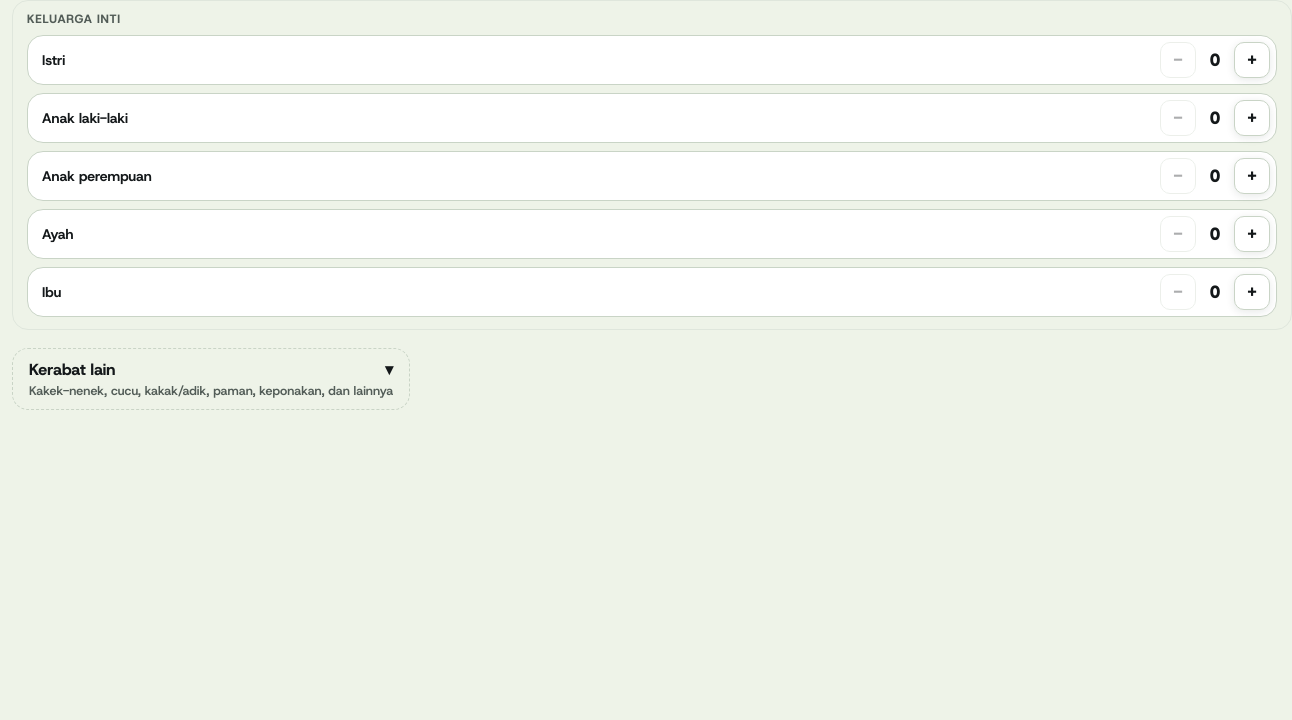
Scenario: kerabat lain selalu terbuka bila sudah ada isinya
This screenshot has width=1292, height=720.
Click the button "Kerabat lain" at (211,379), box [12,348,410,410]
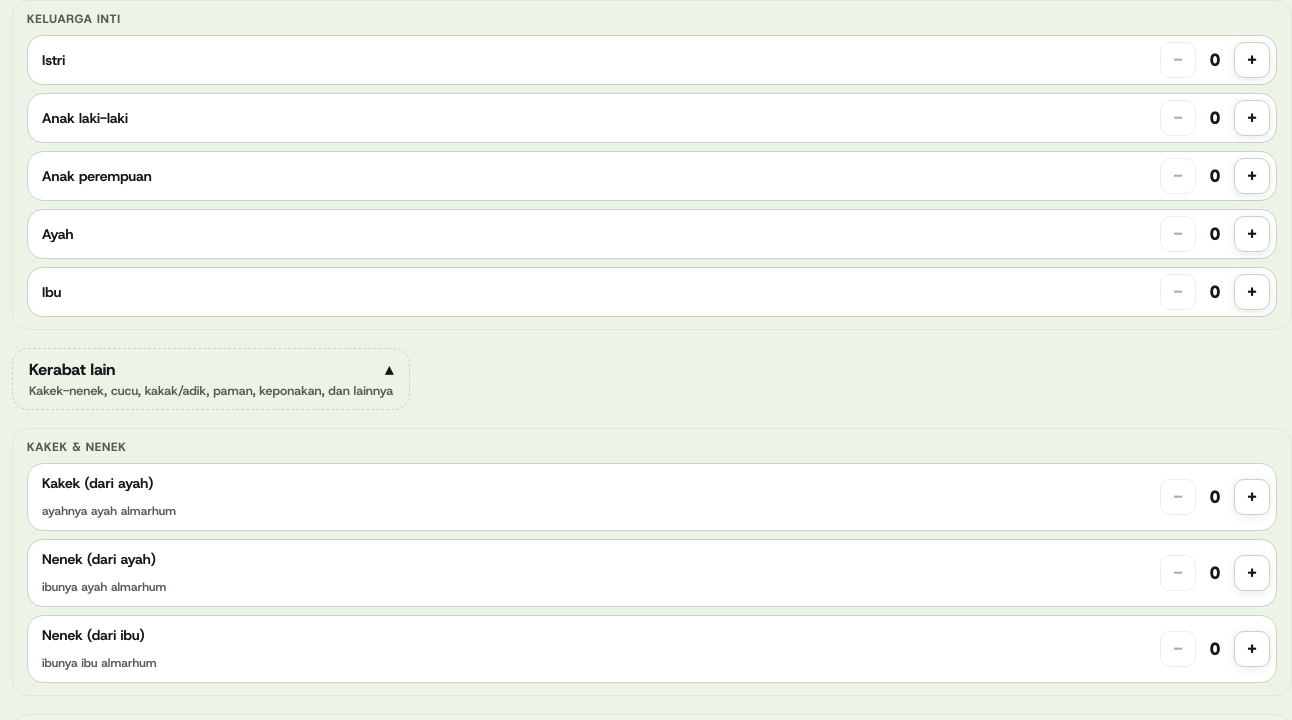
Click the button named "Tambah Kakek (dari ayah)" at (1252,497), box [1234,479,1270,515]
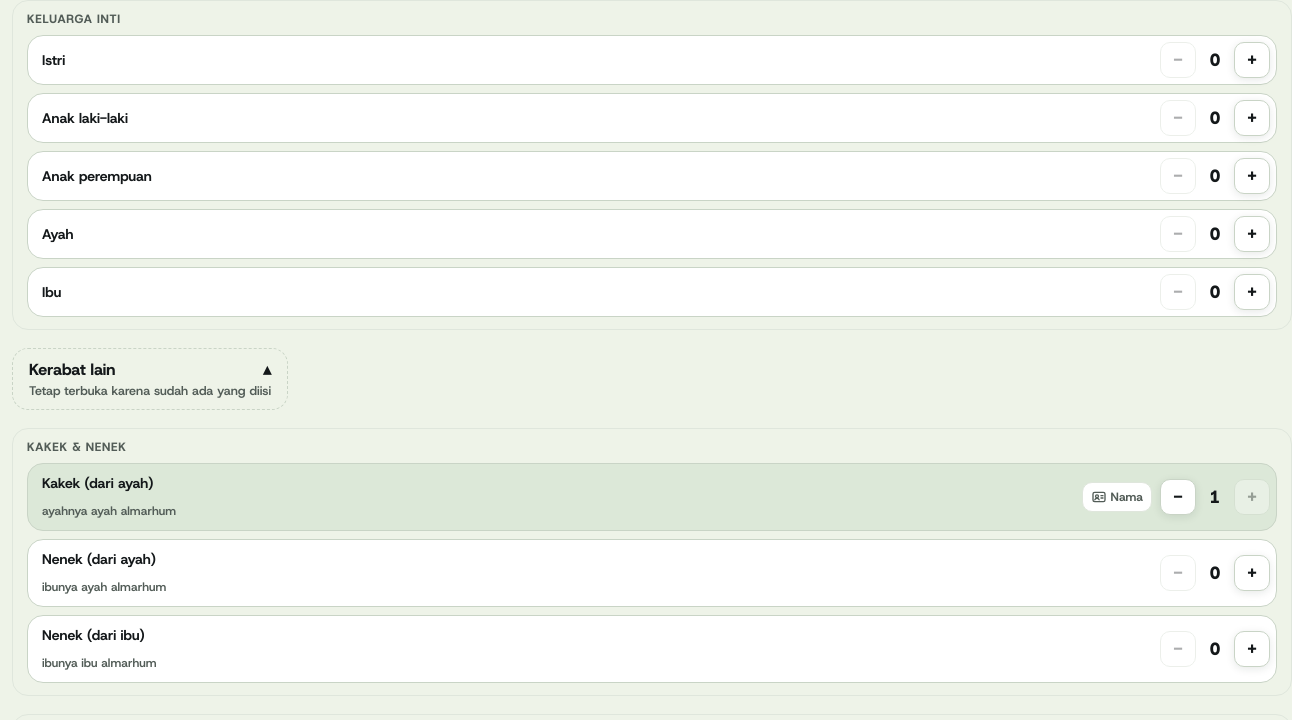
expect the button named "Tambah Kakek (dari ayah)" is shown: met, box [1234,479,1270,515]
expect the button "Kerabat lain ▴ Tetap terbuka karena sudah ada yang diisi" is disabled: met, box [12,348,288,410]
